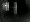person: (11, 3, 17, 15), (4, 3, 9, 12)
